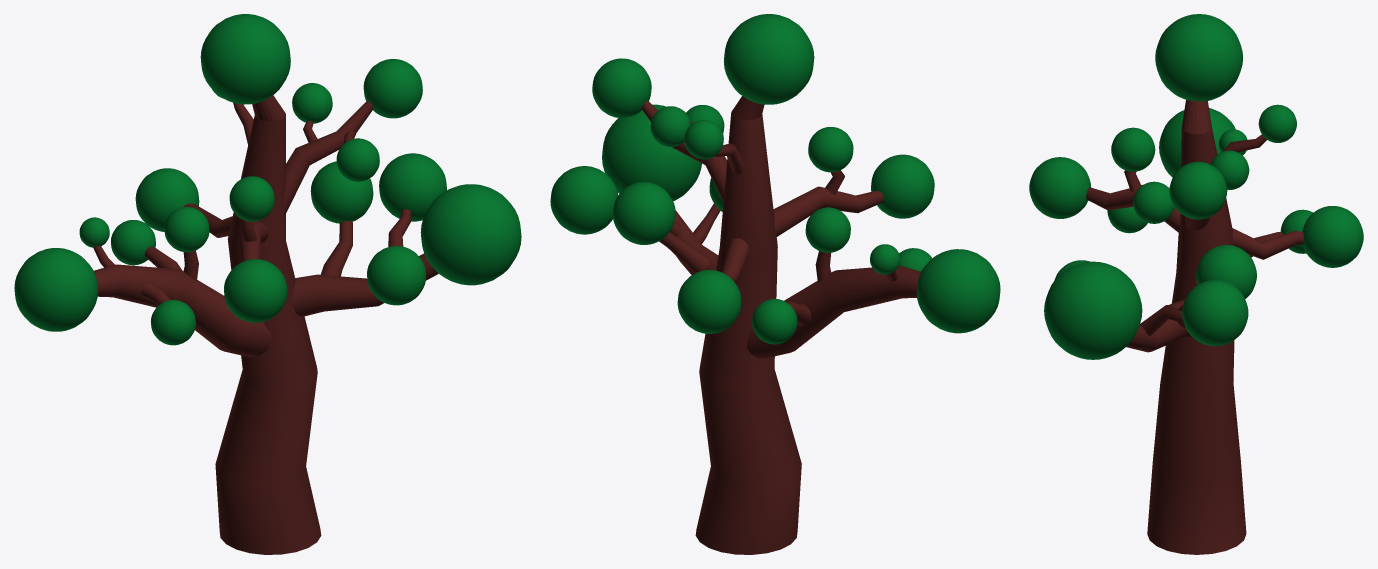
File: tree.fbx
The picture shows the model from 3 angles, left to right: view 1: azimuth 30°, elevation 25°; view 2: azimuth 150°, elevation 25°; view 3: azimuth 270°, elevation 25°; orthographic projection. The views are drawn at different scales.
Visible parts, largest first — view 1: pSphere18; view 2: pSphere18; view 3: pSphere18.
Part boxes in pixels (box(x1,y1,x2,y2)): pSphere18: box(14, 14, 521, 554); pSphere18: box(550, 14, 1000, 554); pSphere18: box(1029, 14, 1363, 554).
Bounding box in the file's own units: 9.95 × 11.23 × 6.75.
